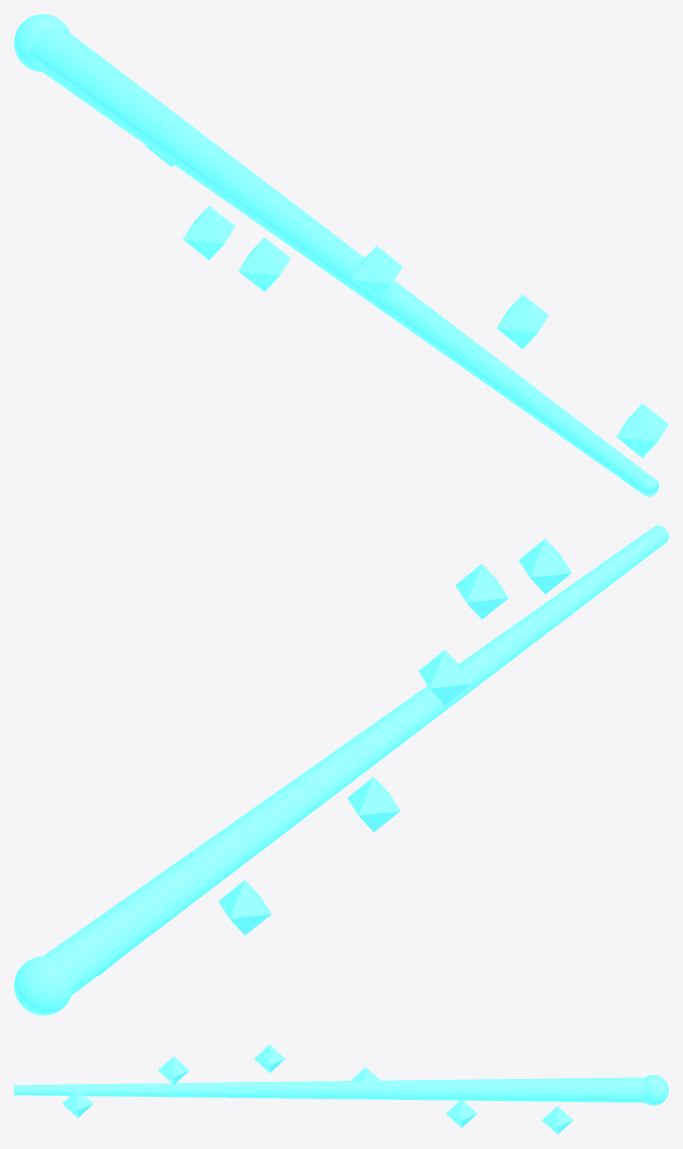
File: vfx_tracer_cryo.glb
3 views of the same model, one above another, from view 1: azimuth 30°, elevation 25°; view 2: azimuth 150°, elevation 25°; view 3: azimuth 270°, elevation 25° (orthographic). The views are drawn at different scales.
Parts seen in each view (by area): view 1: vfx_tracer_cryo_core, vfx_tracer_cryo_crystal0, vfx_tracer_cryo_crystal1, vfx_tracer_cryo_crystal2, vfx_tracer_cryo_crystal3, vfx_tracer_cryo_crystal4, vfx_tracer_cryo_head; view 2: vfx_tracer_cryo_core, vfx_tracer_cryo_head, vfx_tracer_cryo_crystal0, vfx_tracer_cryo_crystal2, vfx_tracer_cryo_crystal3, vfx_tracer_cryo_crystal1, vfx_tracer_cryo_crystal4; view 3: vfx_tracer_cryo_core, vfx_tracer_cryo_head, vfx_tracer_cryo_crystal2, vfx_tracer_cryo_crystal5, vfx_tracer_cryo_crystal0, vfx_tracer_cryo_crystal1, vfx_tracer_cryo_crystal4, vfx_tracer_cryo_crystal3.
Part boxes in pixels (box(x1,y1,x2,y2)): vfx_tracer_cryo_core: box(30, 27, 658, 496); vfx_tracer_cryo_crystal0: box(616, 403, 668, 457); vfx_tracer_cryo_crystal1: box(496, 294, 548, 349); vfx_tracer_cryo_crystal2: box(350, 246, 402, 300); vfx_tracer_cryo_crystal3: box(238, 237, 290, 291); vfx_tracer_cryo_crystal4: box(183, 205, 235, 260); vfx_tracer_cryo_head: box(14, 14, 69, 72); vfx_tracer_cryo_core: box(43, 525, 668, 995); vfx_tracer_cryo_head: box(14, 956, 72, 1015); vfx_tracer_cryo_crystal0: box(519, 538, 571, 594); vfx_tracer_cryo_crystal2: box(418, 650, 471, 705); vfx_tracer_cryo_crystal3: box(347, 777, 400, 831); vfx_tracer_cryo_crystal1: box(455, 564, 508, 619); vfx_tracer_cryo_crystal4: box(218, 880, 271, 935); vfx_tracer_cryo_core: box(14, 1077, 645, 1102); vfx_tracer_cryo_head: box(645, 1075, 668, 1105); vfx_tracer_cryo_crystal2: box(254, 1044, 285, 1072); vfx_tracer_cryo_crystal5: box(542, 1106, 573, 1134); vfx_tracer_cryo_crystal0: box(62, 1089, 93, 1117); vfx_tracer_cryo_crystal1: box(158, 1056, 189, 1084); vfx_tracer_cryo_crystal4: box(446, 1100, 477, 1127); vfx_tracer_cryo_crystal3: box(350, 1067, 380, 1080).
Bounding box in the file's own units: 0.1494 × 0.1421 × 1.02.
